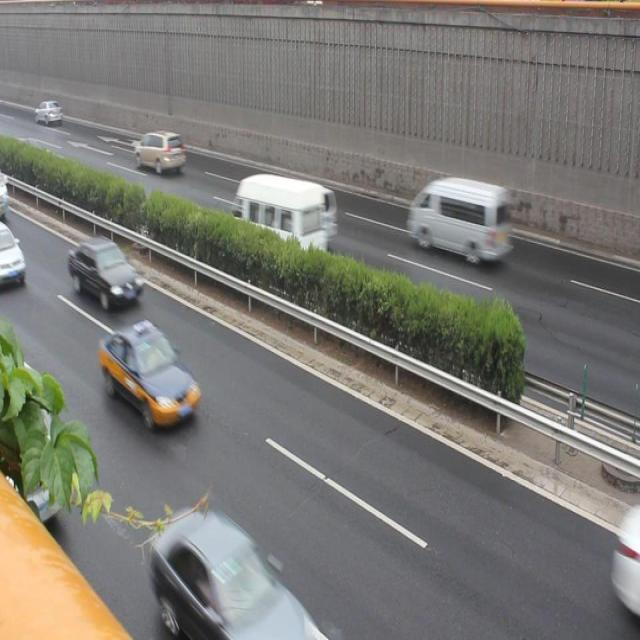car: (145, 506, 327, 640), (100, 323, 202, 426), (264, 162, 348, 245), (67, 239, 145, 313)
truck: (406, 178, 514, 272), (233, 170, 326, 274)
